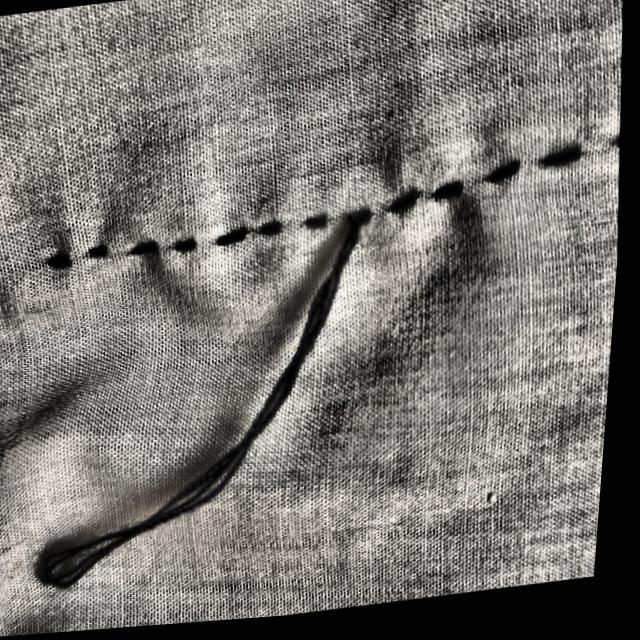Stitch: (21, 194, 422, 598)
